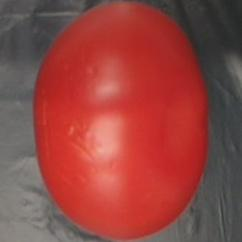unripe: (27, 0, 212, 242)
